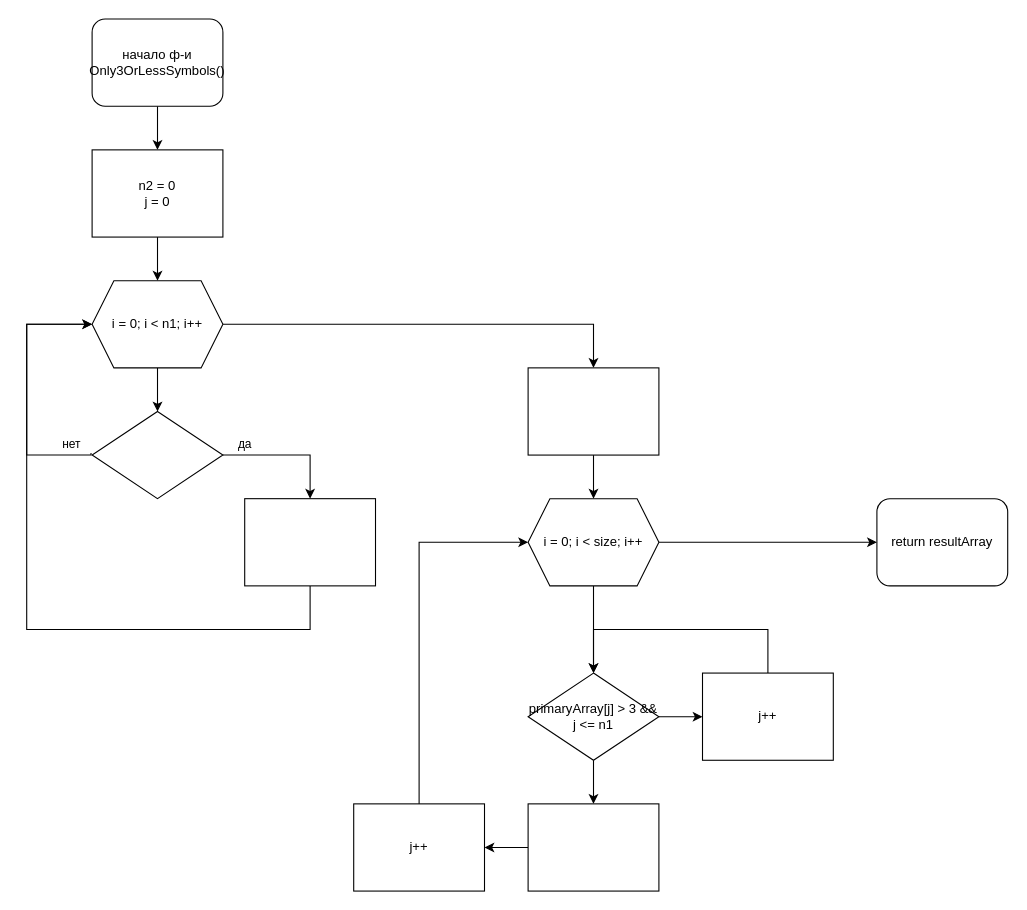
Image size: 1027x910. Some labels were removed from this diagram. The shapes that lost their labels are listed below. From the top down, each one's centre as x and y in pixels, then its label:
At point 593,411: "resultArray = string[n2]".
At point 157,454: "primaryArray[i].Length <= 3".
At point 310,542: "n2++".
At point 593,847: "resultArray[i] = primaryArray[j]".
